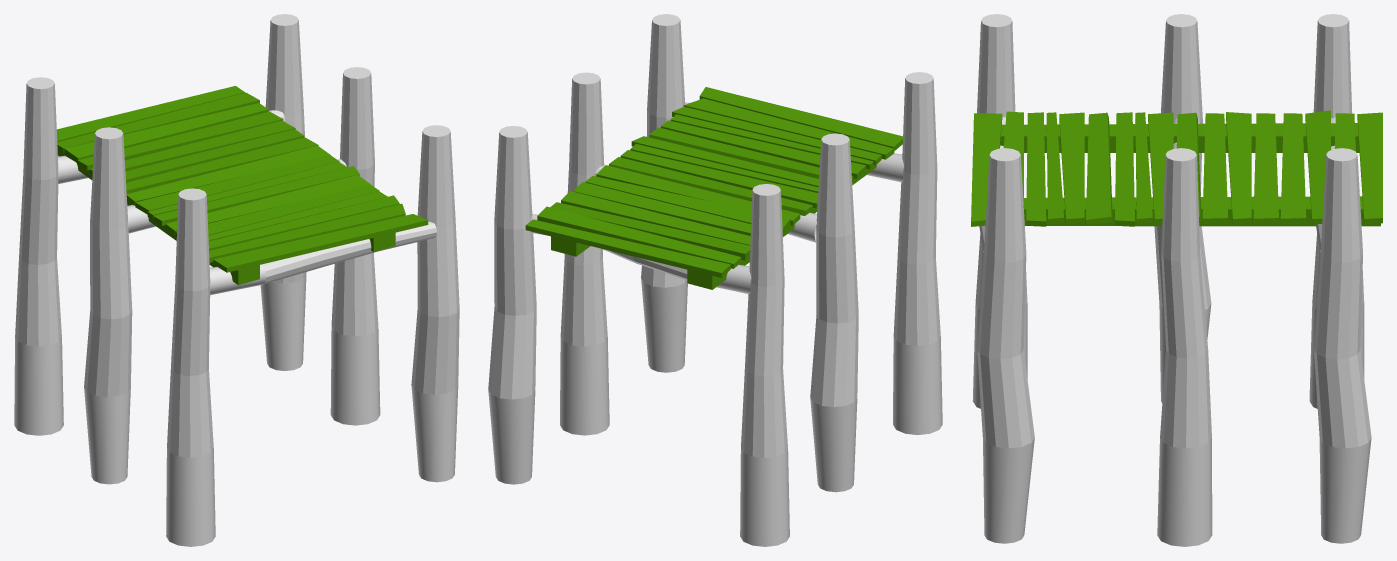
File: pier.FBX
The picture shows the model from 3 angles, left to right: view 1: azimuth 30°, elevation 25°; view 2: azimuth 150°, elevation 25°; view 3: azimuth 270°, elevation 25°; orthographic projection. The views are drawn at different scales.
Parts seen in each view (by area): view 1: Cylinder003, Group001; view 2: Cylinder003, Group001; view 3: Cylinder003, Group001.
Boxes of the visible parts, x1=… form: Cylinder003: x1=14, y1=14, x2=459, y2=546; Group001: x1=56, y1=86, x2=436, y2=294; Cylinder003: x1=488, y1=14, x2=942, y2=546; Group001: x1=525, y1=87, x2=904, y2=293; Cylinder003: x1=972, y1=14, x2=1371, y2=546; Group001: x1=971, y1=110, x2=1382, y2=252.
Size of the model in its own units: 911 by 1028 by 1008.
